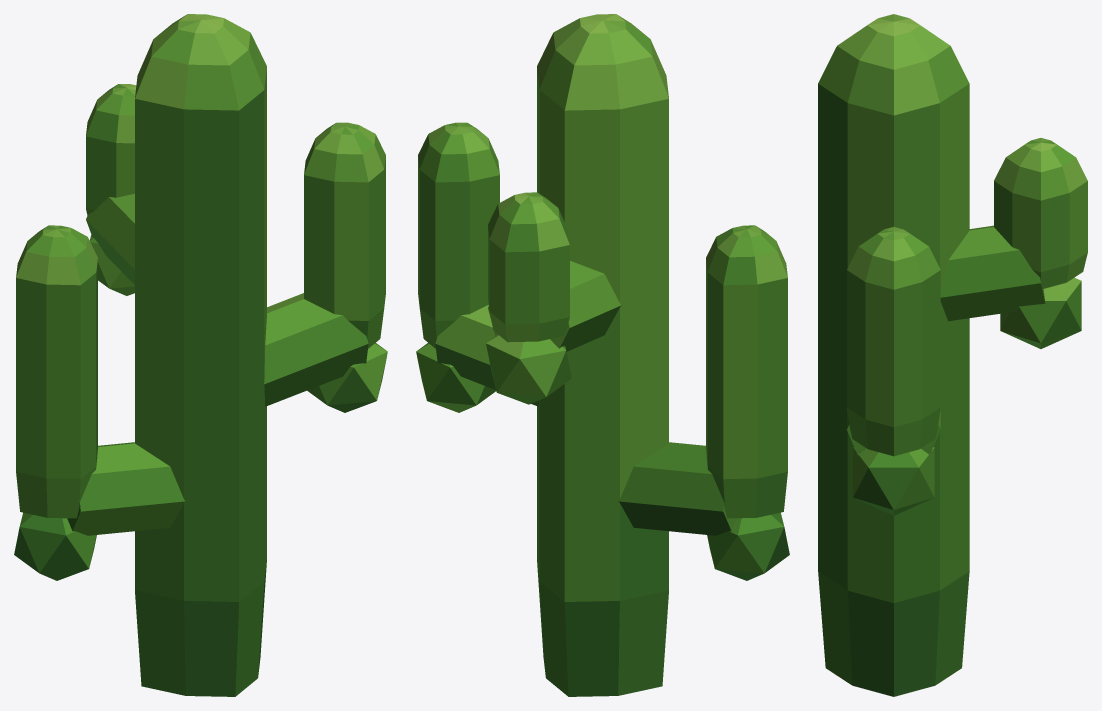
The model's file is SM_CACTUS_ARM_01.fbx.
3 renders of one model, left to right at view 1: azimuth 30°, elevation 25°; view 2: azimuth 150°, elevation 25°; view 3: azimuth 270°, elevation 25°, orthographic.
Parts seen in each view (by area): view 1: CACTUS_ARM_01; view 2: CACTUS_ARM_01; view 3: CACTUS_ARM_01.
Boxes of the visible parts, x1,y1,x2,y2 form: CACTUS_ARM_01: (14,14,387,696); CACTUS_ARM_01: (416,14,789,696); CACTUS_ARM_01: (818,14,1087,696).
Bounding box in the file's own units: 0.9508 × 0.6054 × 1.6.
